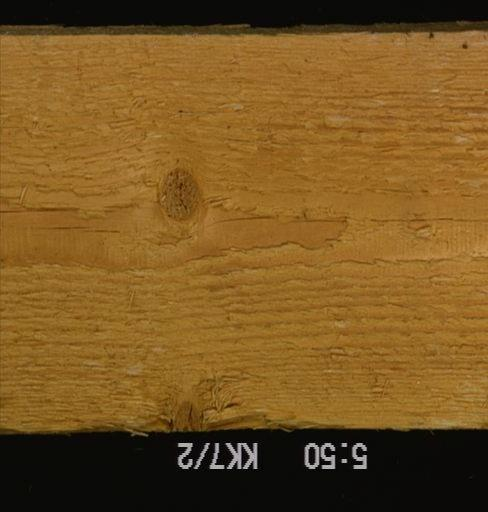split: (369, 217, 486, 224), (30, 223, 91, 232)
wave: (76, 410, 328, 432)
